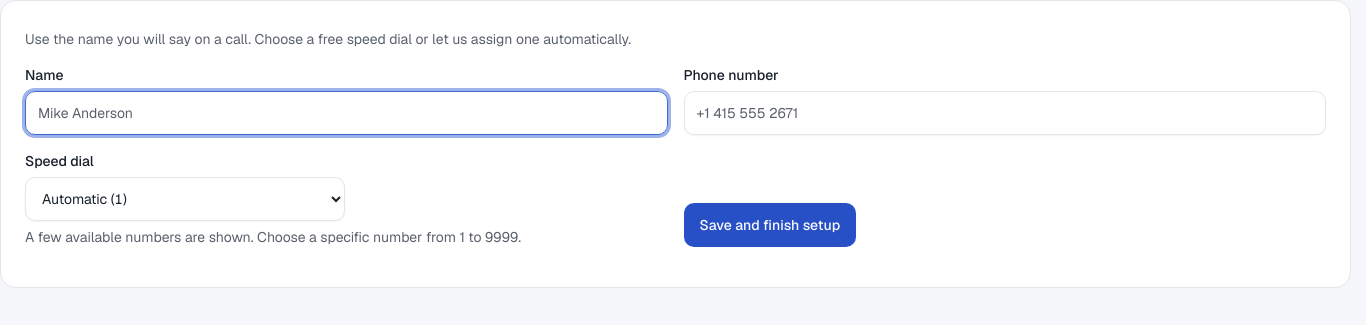
first contact onboarding › keeps the contact form available when the save fails
The image size is (1366, 325).
Type "Mike" into the field labelled "Name".
click(346, 113); type("Mike")  # box [25, 91, 668, 135]
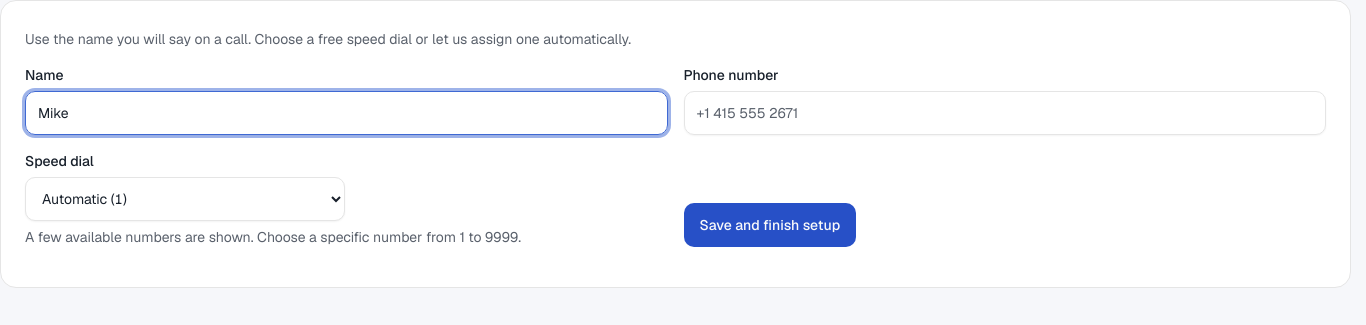
Type "+14155552671" into the field labelled "Phone number".
click(1005, 113); type("+14155552671")  # box [684, 91, 1326, 135]
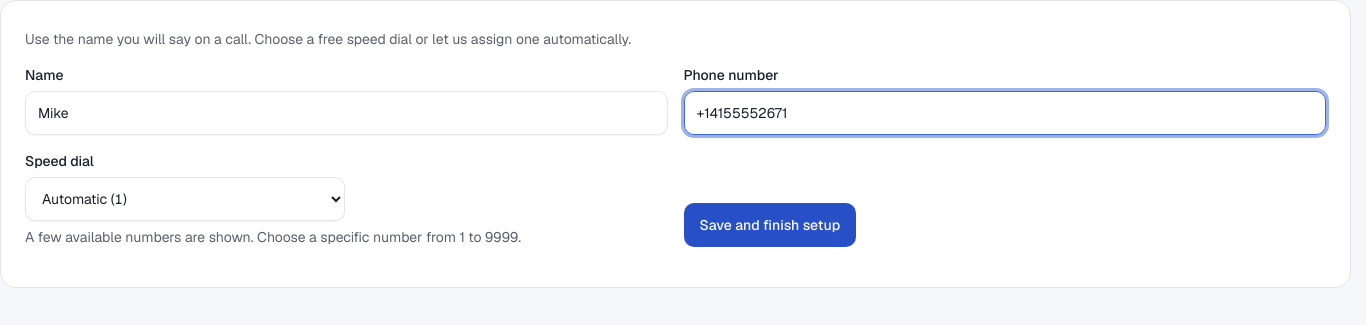
Click the button "Save and finish setup".
click(770, 225)  # box [684, 203, 856, 247]
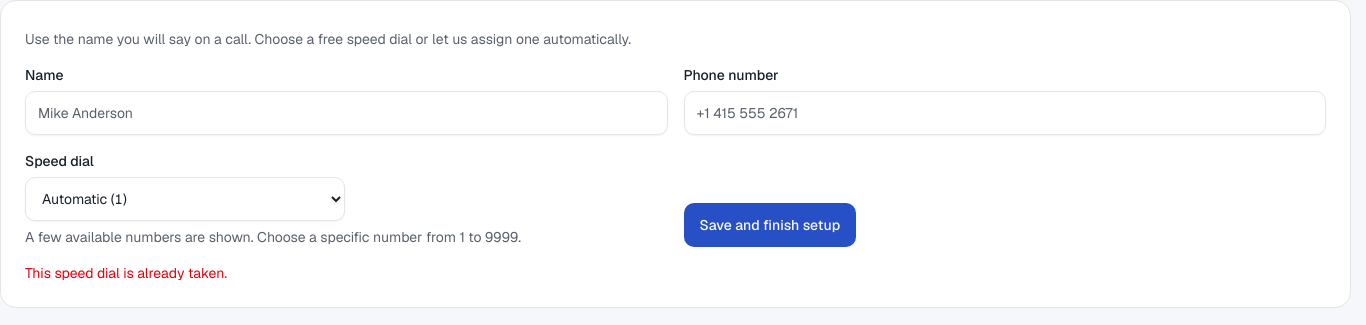
expect the field labelled "Name" is shown: met, box [25, 91, 668, 135]
expect the message reads "This speed dial is already taken.": met, box [25, 264, 227, 282]
